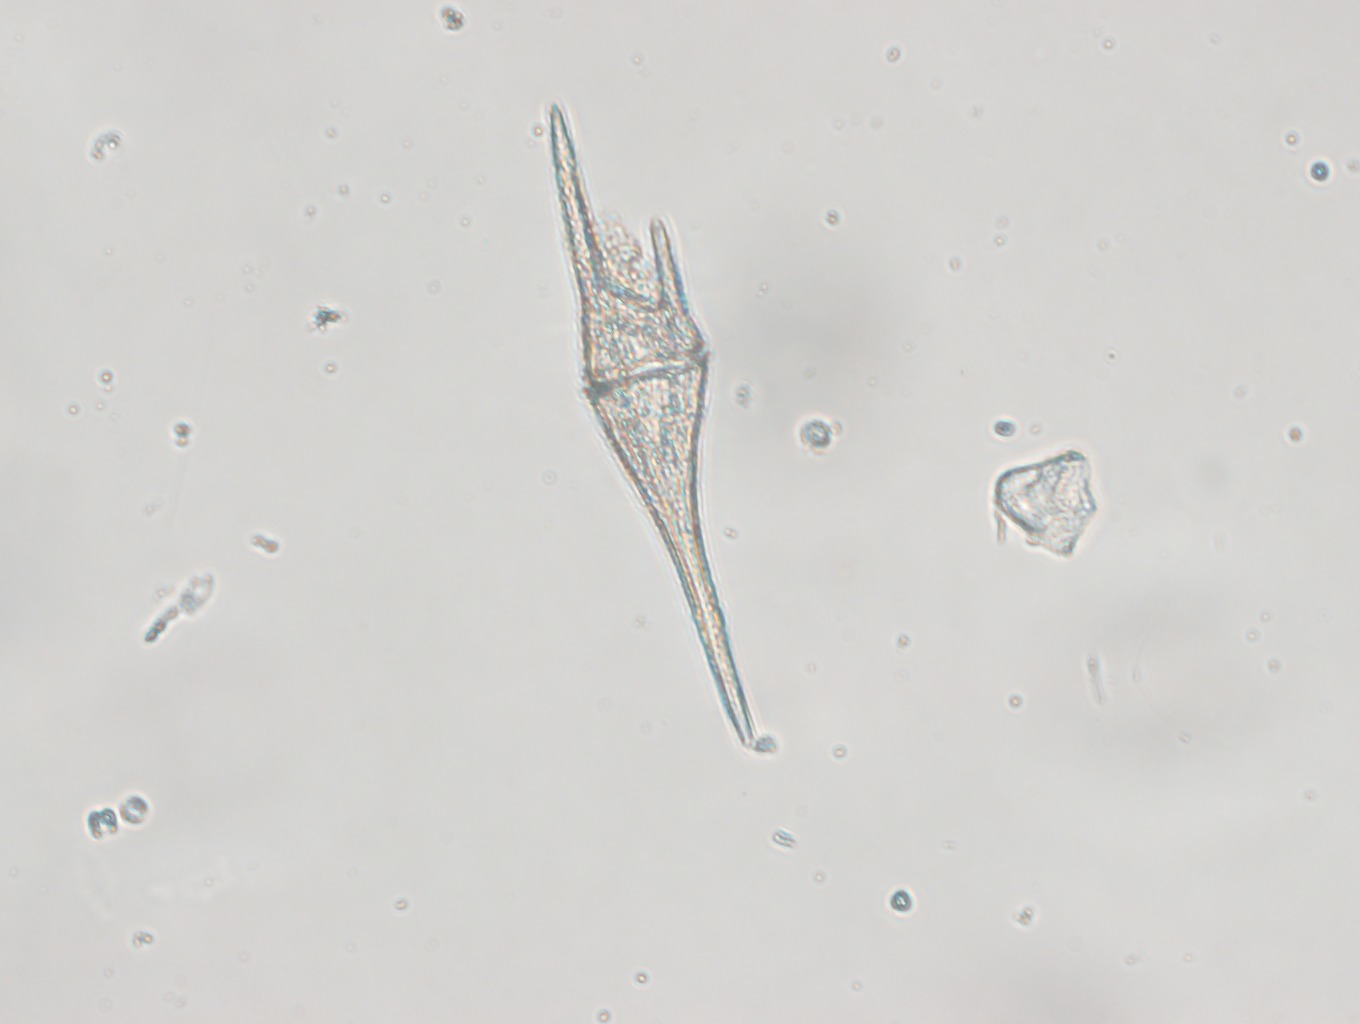ceratium furca: (547, 101, 757, 746)
